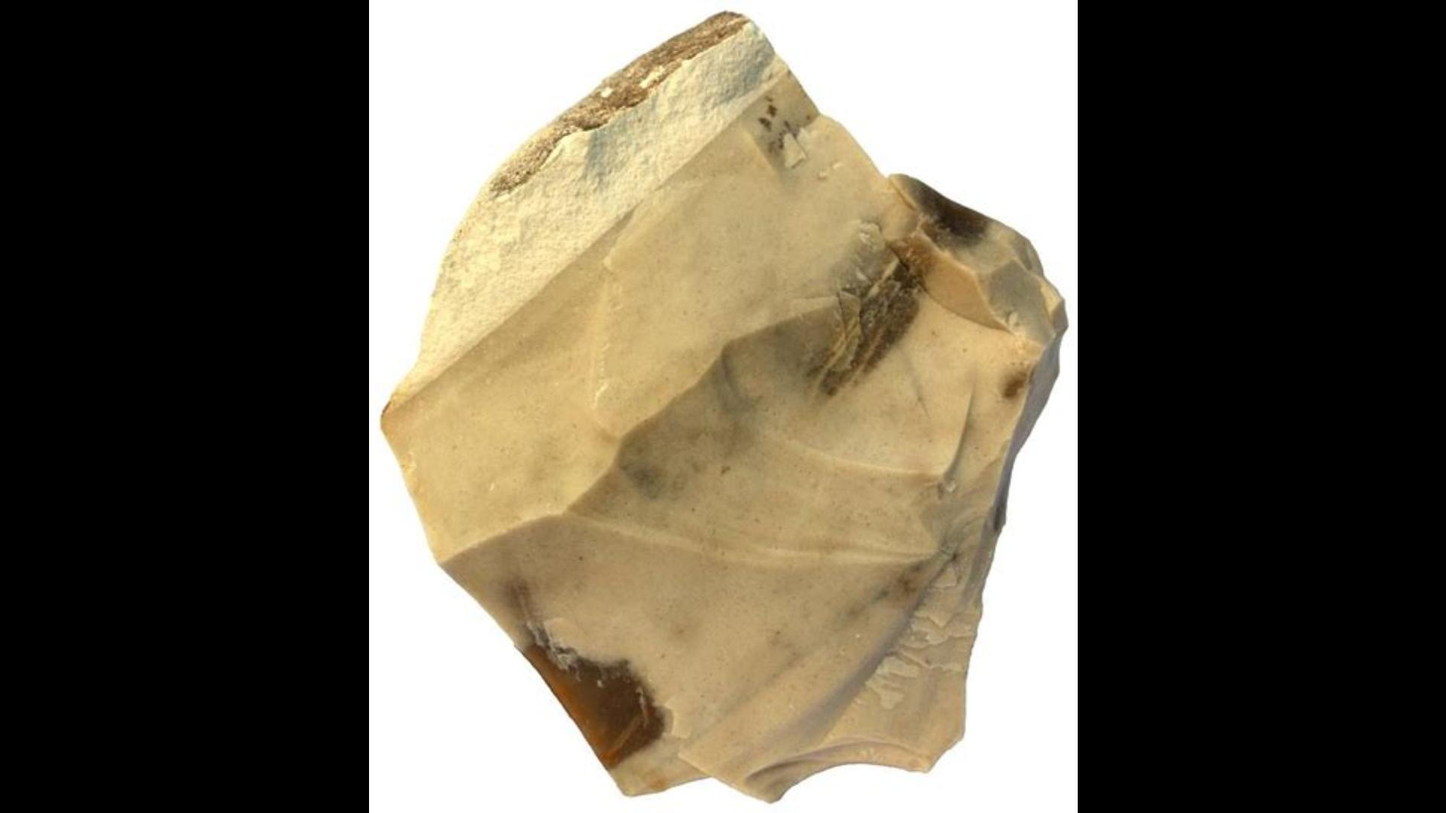rock: (383, 13, 1064, 800)
